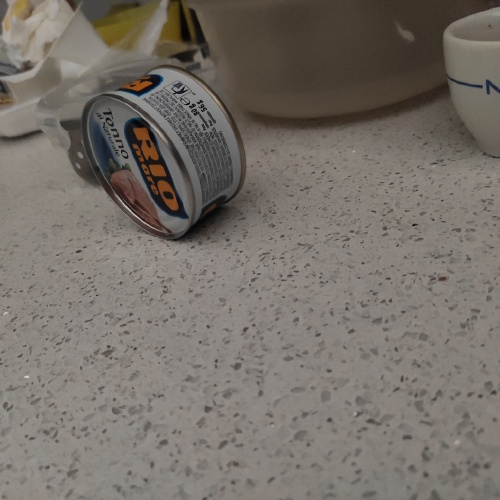tonno: (74, 57, 260, 243)
